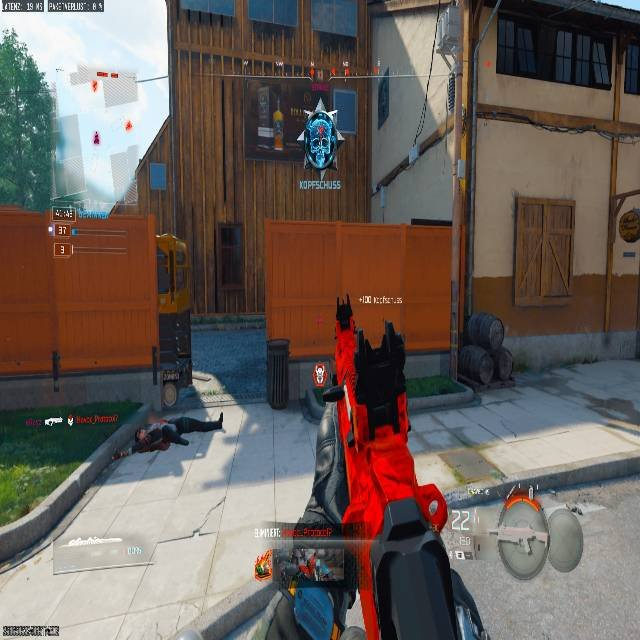head: (335, 298, 352, 330)
player: (298, 97, 343, 178)
